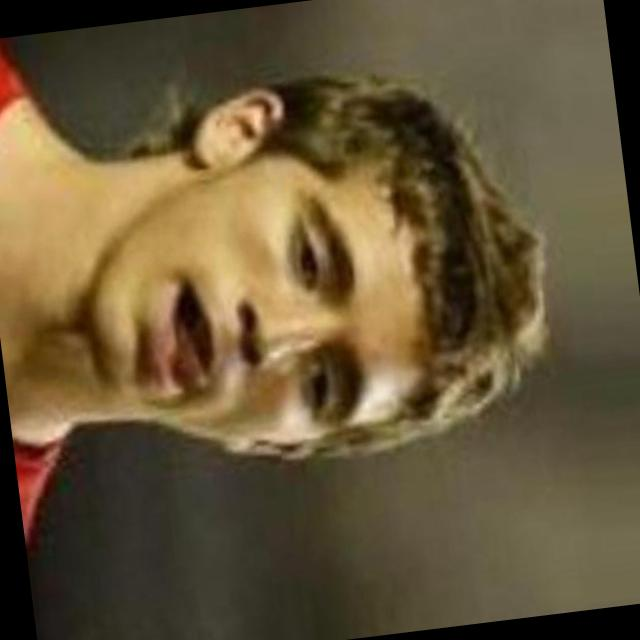bareface: (55, 70, 542, 490)
